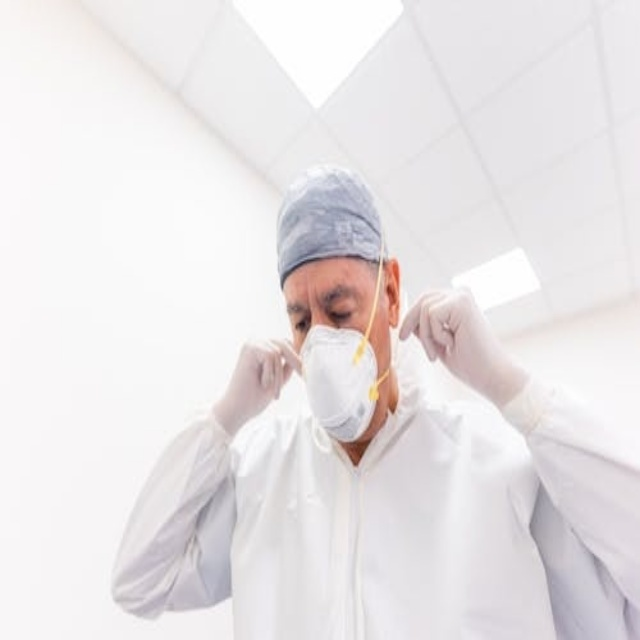Guantes: (399, 285, 515, 403), (214, 338, 306, 438)
Mascara: (300, 321, 383, 443)
Sin_gafas: (287, 273, 365, 336)
